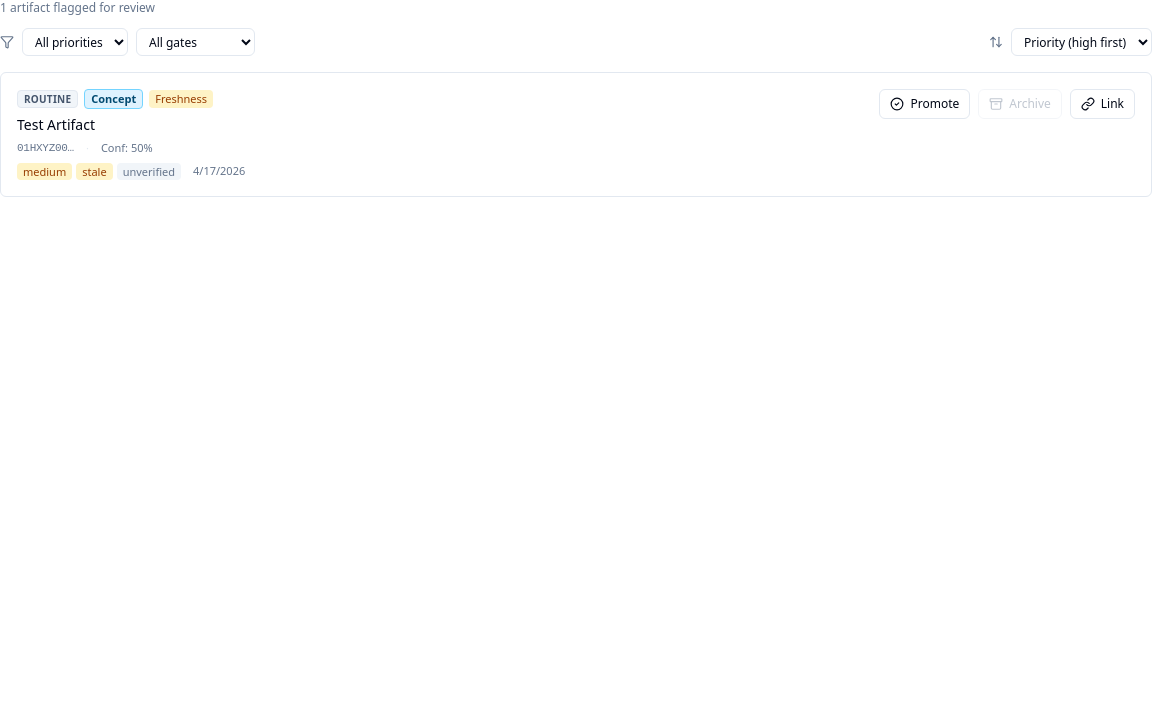
it: ReviewQueue — Link action: dialog › opens the link dialog when the Link button is clicked
The width and height of the screenshot is (1152, 720).
Click the button "Link". click: (1102,104)
box: [1070,89,1135,119]
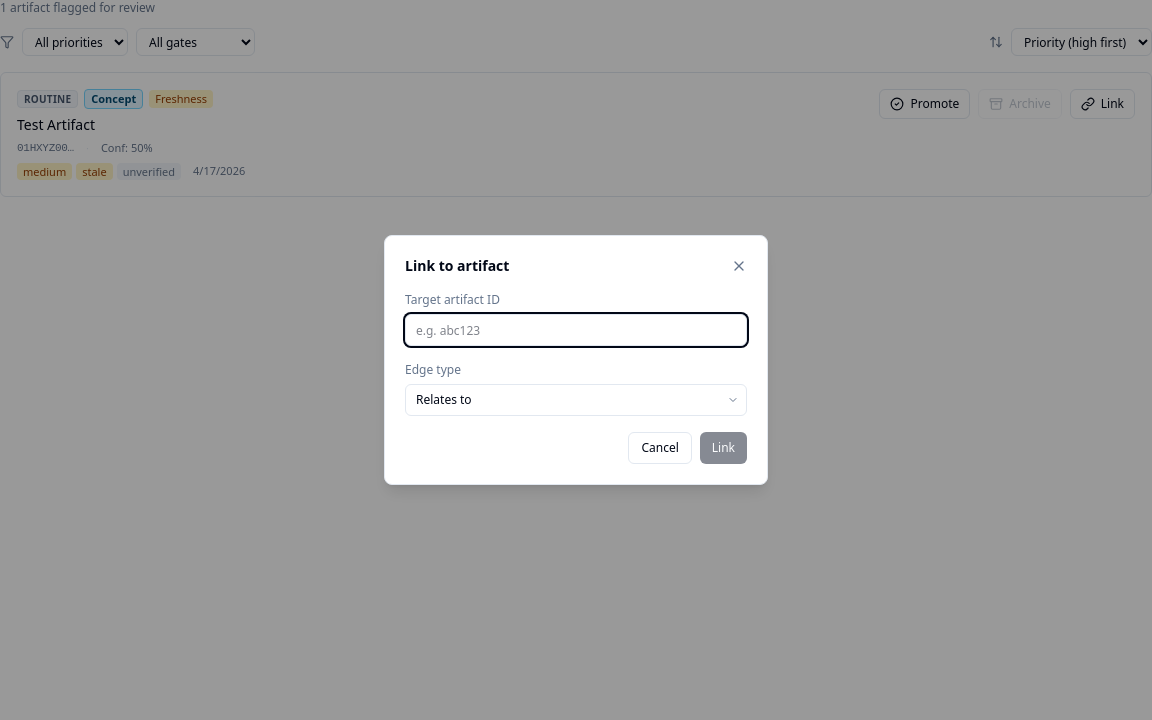
Expected: the dialog "Link to artifact Target artifact ID Edge type Cancel Link" is shown
